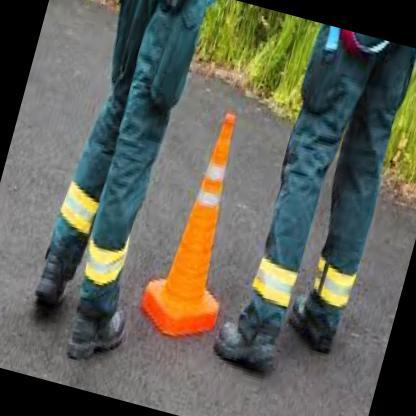safety-shoe: (209, 299, 287, 381), (279, 284, 351, 366), (57, 302, 135, 372), (19, 238, 78, 329)
